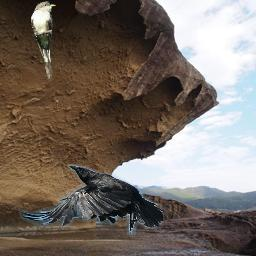Crow: (18, 164, 163, 235)
Cuckoo: (31, 1, 56, 80)
